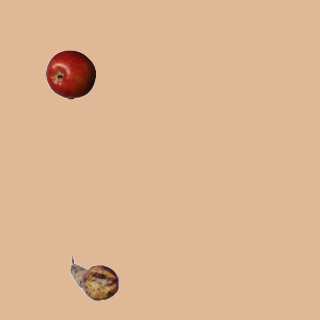Apple Braeburn: (45, 49, 95, 99)
Pear Abate: (69, 253, 119, 303)
